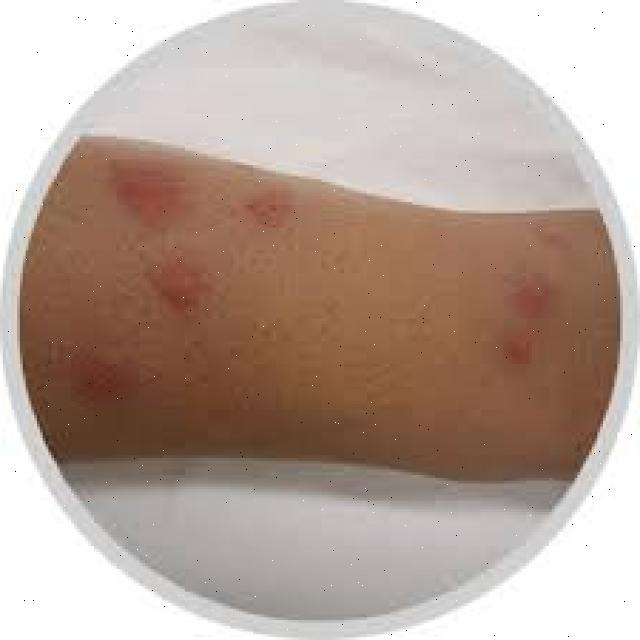kan emici bocekler: (115, 157, 188, 227), (154, 248, 216, 319), (78, 348, 149, 402), (247, 181, 304, 228), (492, 341, 540, 372), (513, 280, 555, 314), (546, 217, 571, 253)
